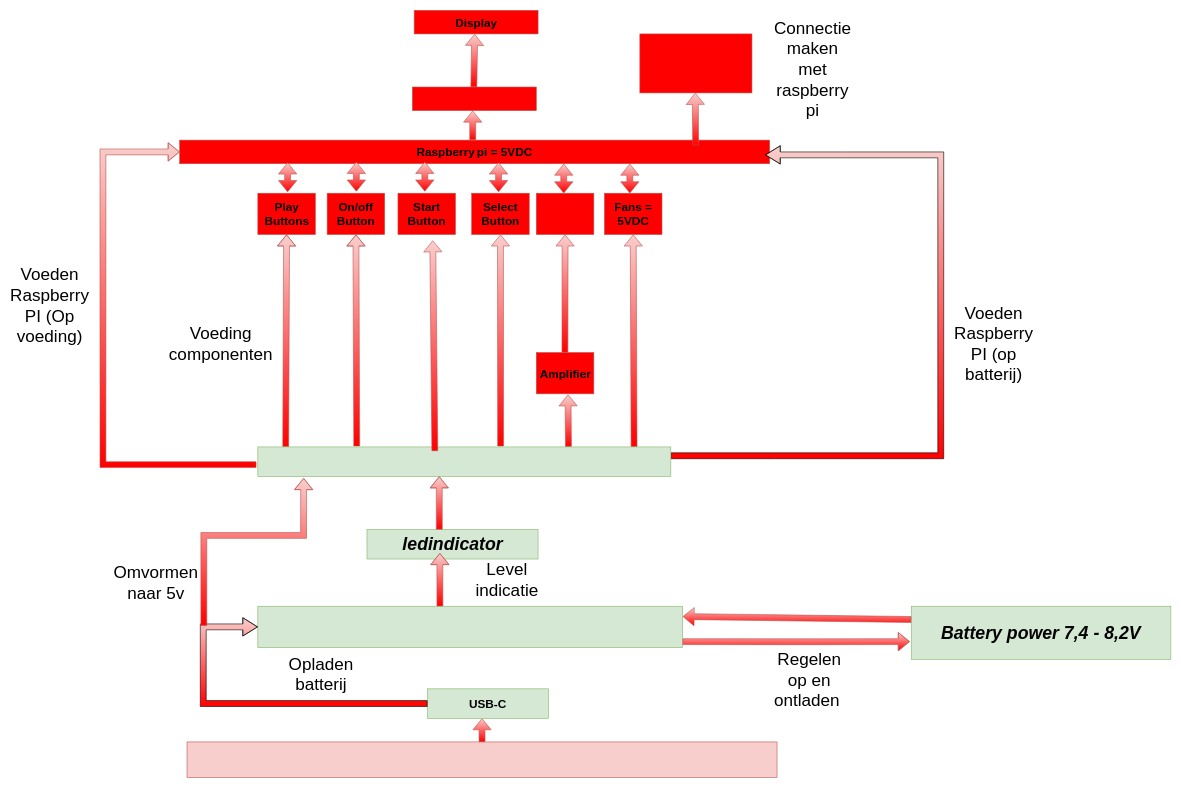
The diagram is 1181 pixels wide and 788 high, and some of its shapes have lost their labels. The centre of each missing label's shape, as x and y in pixels:
"BMS" goes at point 470,627.
"HDMI" goes at point 474,98.
"Speaker" goes at point 565,214.
"Step down converter 5V" goes at point 464,461.
"Voeding = 230V" goes at point 481,759.
"Wifi" goes at point 695,63.
